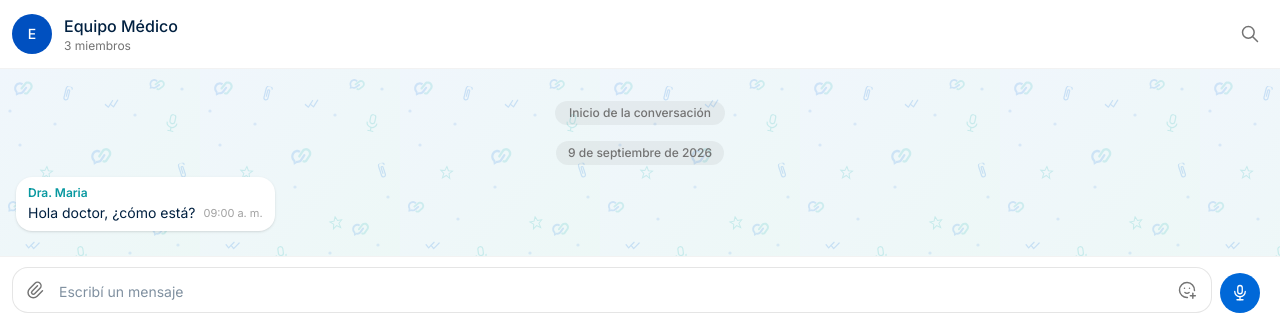
Test: ConversationView › despliega sugerencias de mención con @usuario al escribir @ en un grupo
This screenshot has width=1280, height=330.
Step 1. Type "Hola @" into the text box with placeholder "Escribí un mensaje" → (611, 292), box [55,276,1167,308]
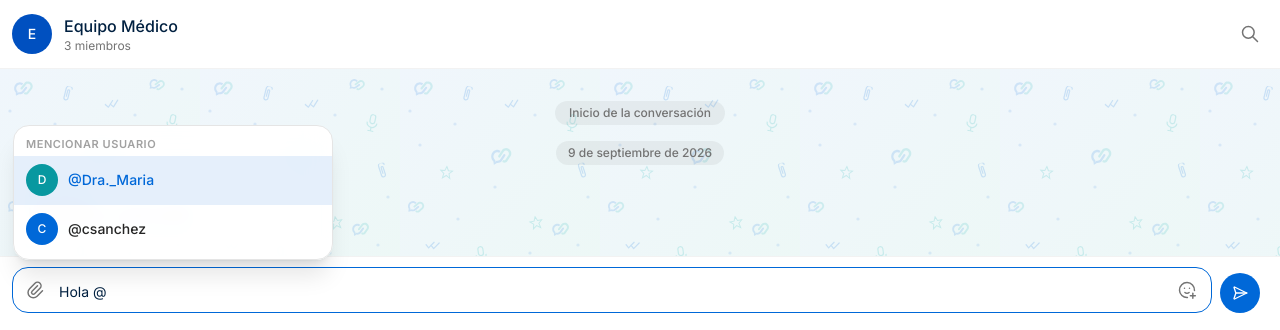
Expected: the element with test id "mention-autocomplete-list" is shown, [13,124,333,260]
Expected: the text "@csanchez" is shown, [68,220,146,237]
